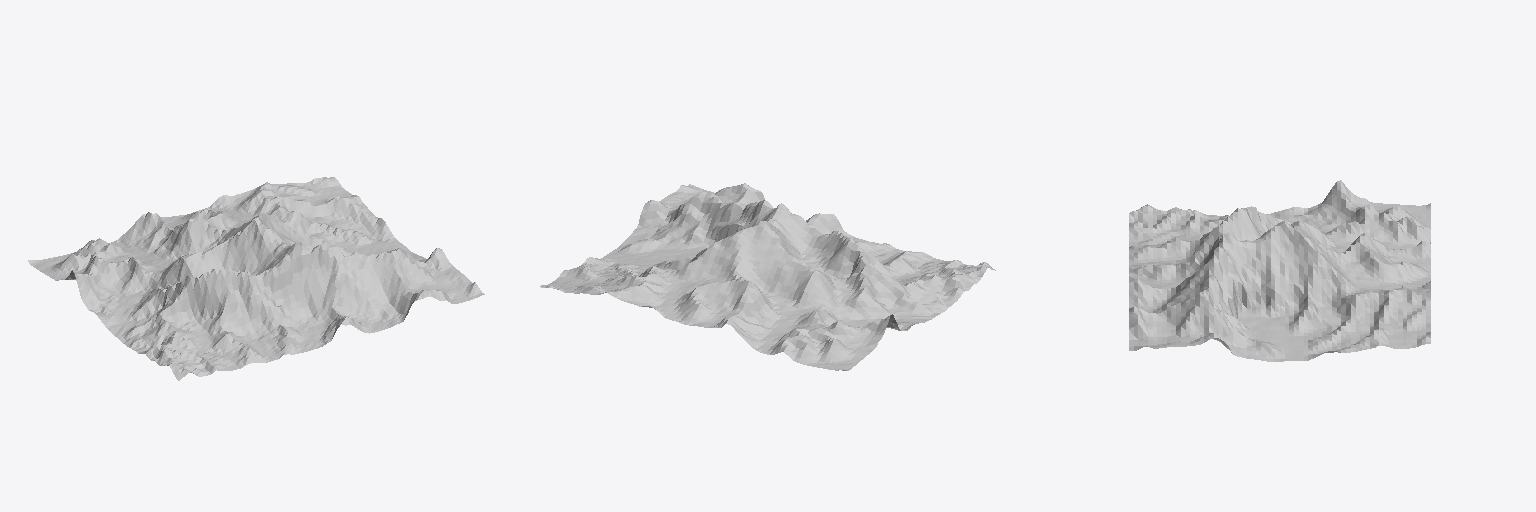
File: Everest.obj
The picture shows the model from 3 angles: view 1: azimuth 30°, elevation 25°; view 2: azimuth 150°, elevation 25°; view 3: azimuth 270°, elevation 25°; orthographic projection.
Parts seen in each view (by area): view 1: EXPORT_ESRI_AERIAL_WM_EXPORT_ESRI_AERIAL_WM.002; view 2: EXPORT_ESRI_AERIAL_WM_EXPORT_ESRI_AERIAL_WM.002; view 3: EXPORT_ESRI_AERIAL_WM_EXPORT_ESRI_AERIAL_WM.002.
Part boxes in pixels (bbox=[...]): EXPORT_ESRI_AERIAL_WM_EXPORT_ESRI_AERIAL_WM.002: bbox=[28, 177, 484, 380]; EXPORT_ESRI_AERIAL_WM_EXPORT_ESRI_AERIAL_WM.002: bbox=[540, 183, 995, 370]; EXPORT_ESRI_AERIAL_WM_EXPORT_ESRI_AERIAL_WM.002: bbox=[1129, 180, 1430, 361].
Bounding box in the file's own units: 20791 × 4630 × 17733.